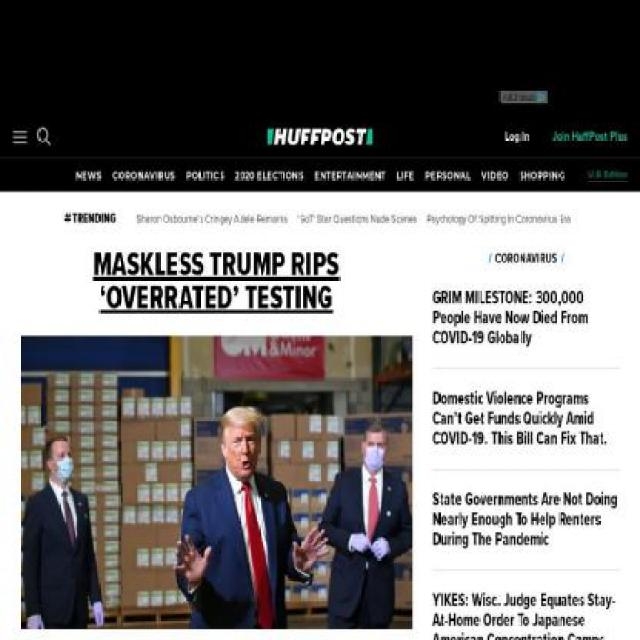button: (20, 336, 412, 629), (432, 288, 620, 348), (432, 389, 620, 449), (432, 490, 620, 550), (432, 592, 620, 639), (268, 128, 372, 146), (314, 168, 386, 181), (236, 168, 304, 181), (112, 168, 176, 181), (424, 168, 471, 181), (498, 91, 548, 103), (518, 168, 564, 181), (186, 168, 225, 181), (588, 170, 628, 181), (482, 168, 509, 181), (76, 168, 102, 181), (12, 127, 28, 147), (505, 131, 529, 143), (395, 168, 414, 181)
